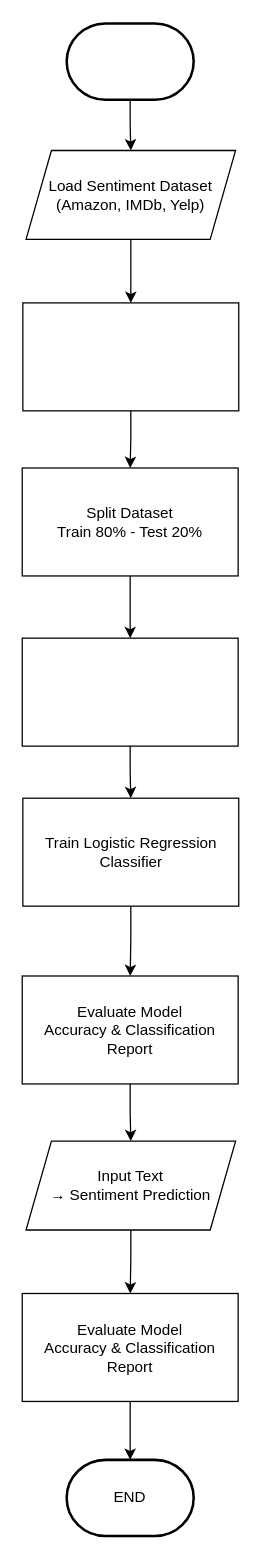
Image size: 262x1558. Some labels were removed from this diagram. The shapes that lost their labels are listed below. From the top down, each one's box as (x1, y1, x2, y2) in pixels, then its label:
(65, 22, 194, 100): START
(22, 302, 239, 411): Combine All Dataset into One Dataset
(21, 637, 238, 746): Hugging Face Model sentence-transformers all-MiniLM-L6-v2
